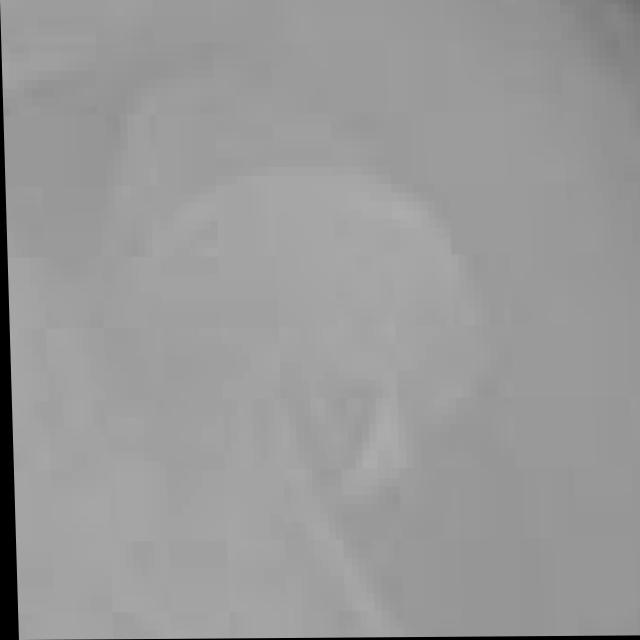fracture: (7, 0, 640, 639)
